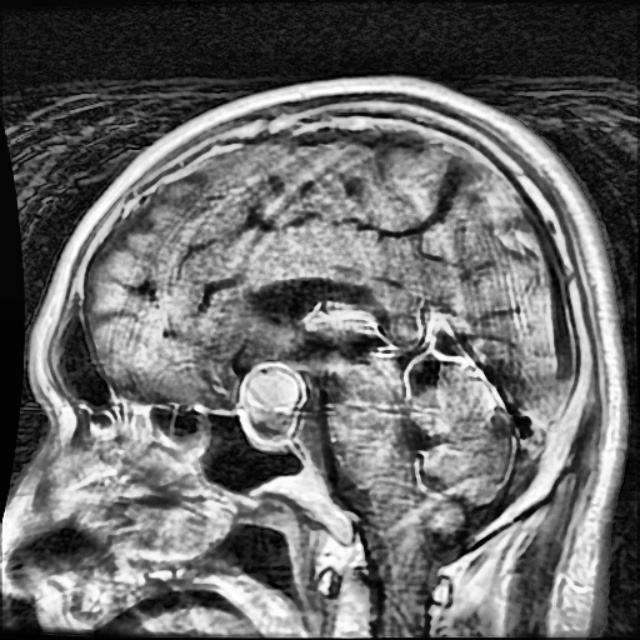Pituitary: (243, 360, 304, 428)
